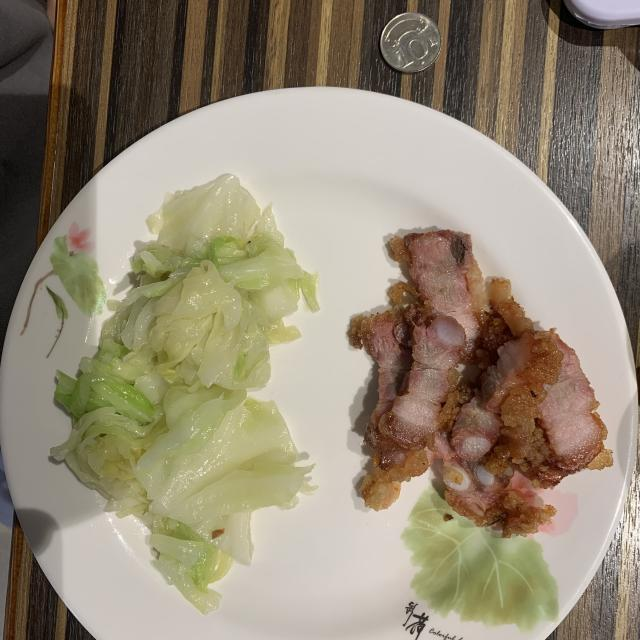cabbage: (51, 174, 319, 614)
coin: (380, 12, 441, 72)
red grilled pork: (348, 230, 612, 538)
